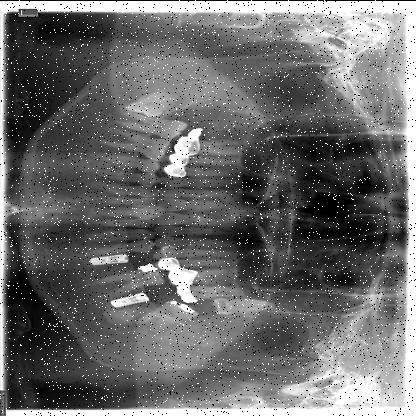ITI: (104, 290, 155, 309), (83, 251, 134, 267)
